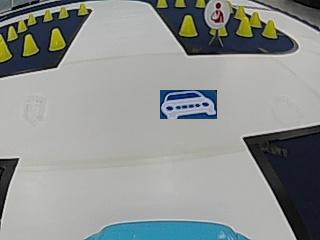cone: (178, 14, 198, 36), (49, 28, 65, 51), (23, 34, 39, 55), (237, 15, 252, 37), (0, 33, 11, 61), (262, 19, 277, 38), (7, 25, 18, 40), (76, 3, 88, 16), (42, 9, 53, 21), (58, 6, 69, 18), (17, 19, 27, 31), (27, 13, 37, 25), (174, 0, 186, 8), (156, 0, 168, 8), (195, 0, 205, 8)
patient: (205, 0, 229, 26)
